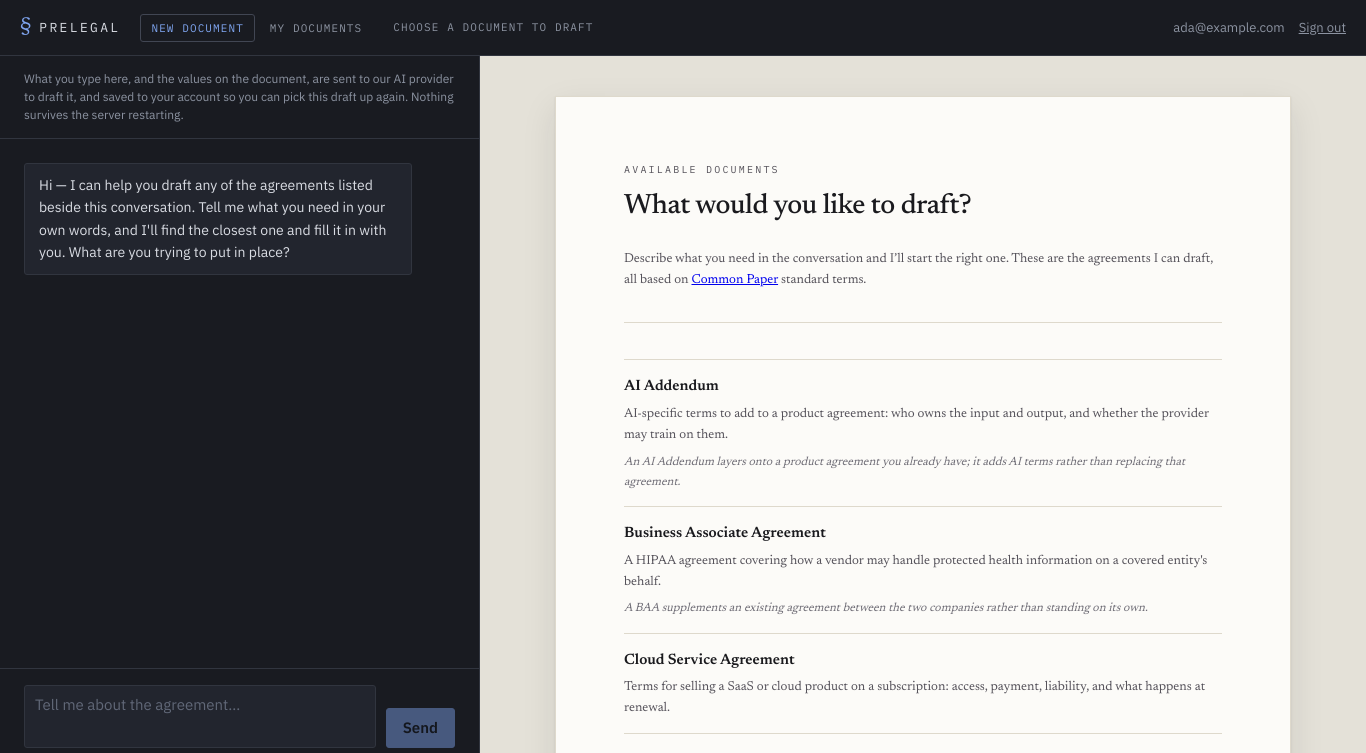
Test case: DocumentWorkspace › a generically rendered document › keeps an omitted optional value as None rather than a blank
The width and height of the screenshot is (1366, 753).
Type "We want a 30 day trial." into the text box named "Your message". click: (200, 716)
box: x1=24 y1=685 x2=376 y2=748
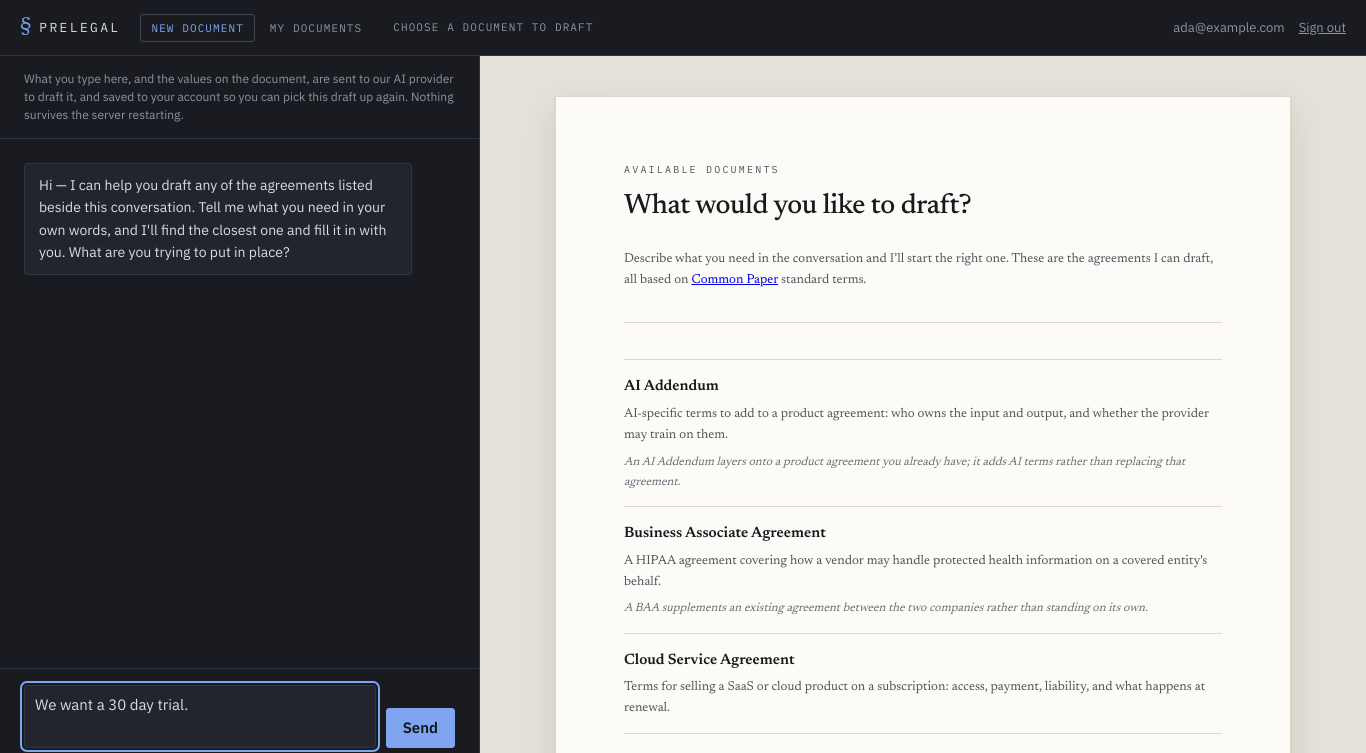
Click the button "Send". click: click(420, 728)
box: x1=386 y1=708 x2=455 y2=748
(page scrolled)
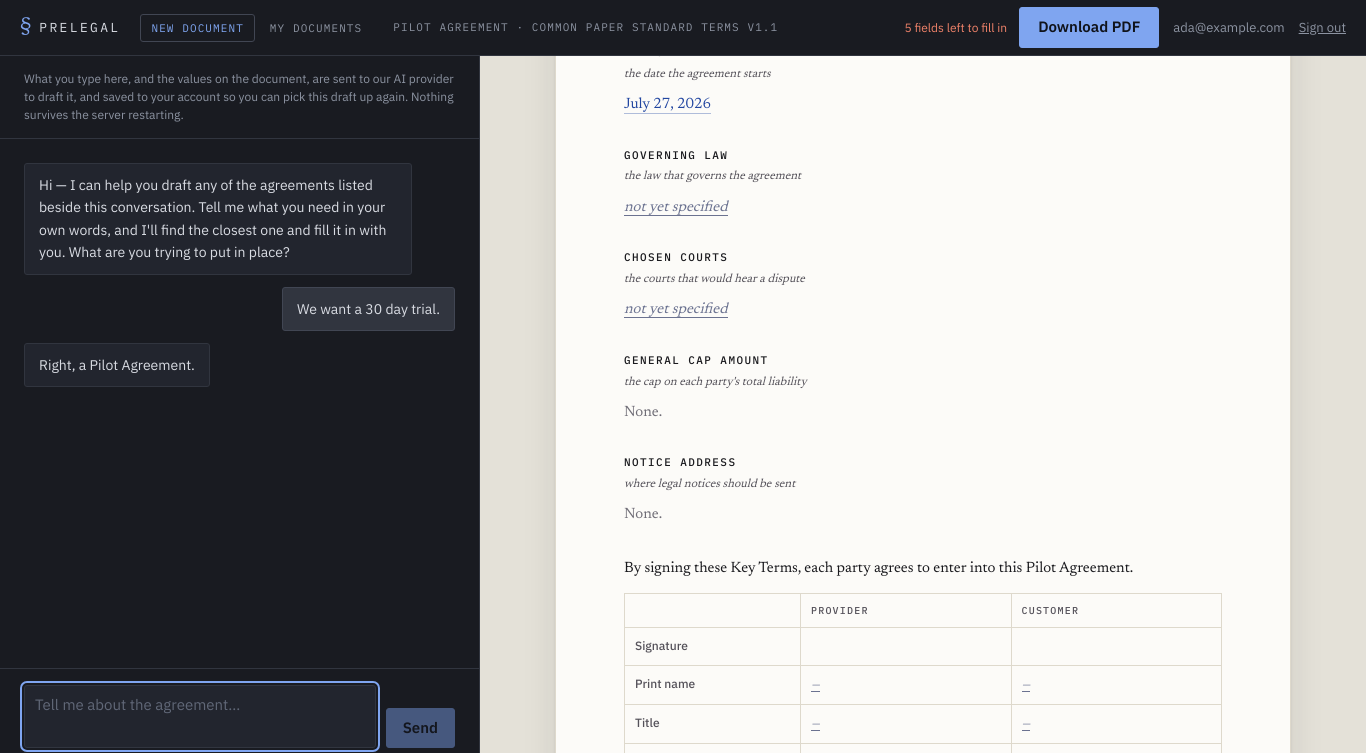
Now the text "Right, a Pilot Agreement." is shown, box x1=24 y1=343 x2=210 y2=387
Now the text "None." below "the cap on each party's total liability" is shown, box x1=624 y1=405 x2=662 y2=420
